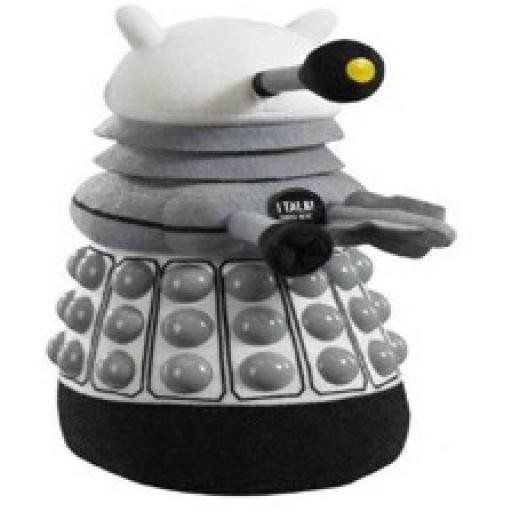dalek: (36, 7, 468, 498)
